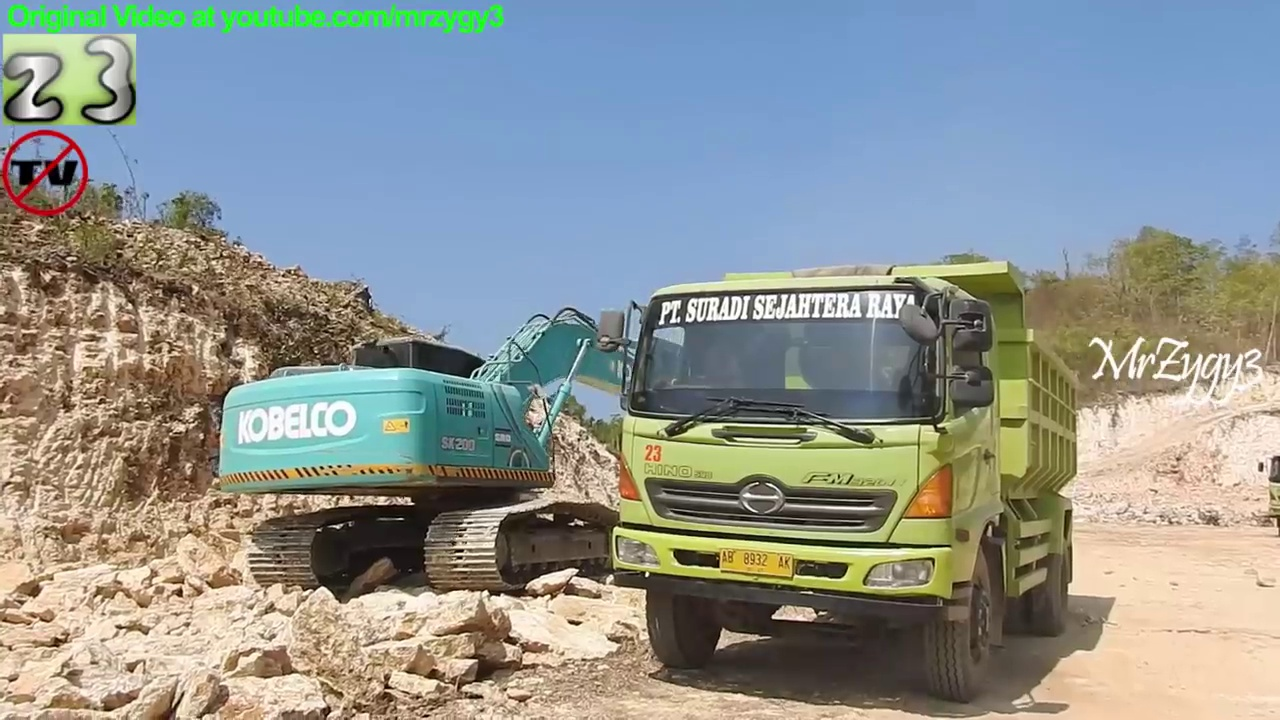excavator: (209, 298, 891, 609)
truck: (588, 254, 1089, 702)
